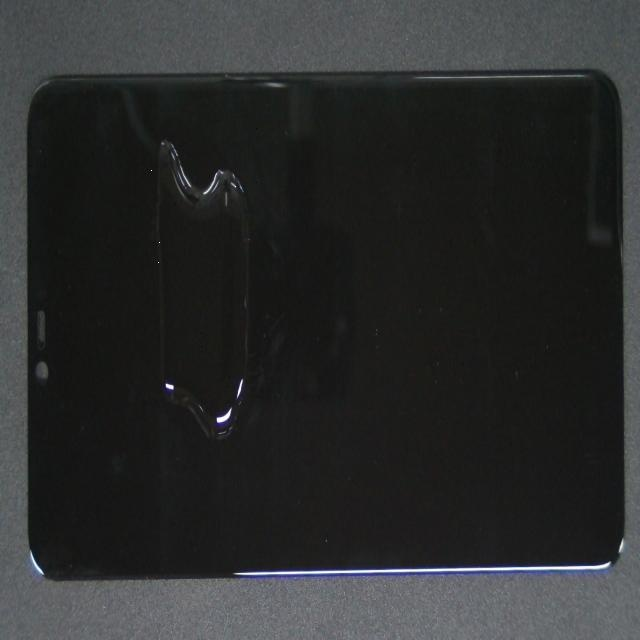oil: (124, 76, 315, 264)
